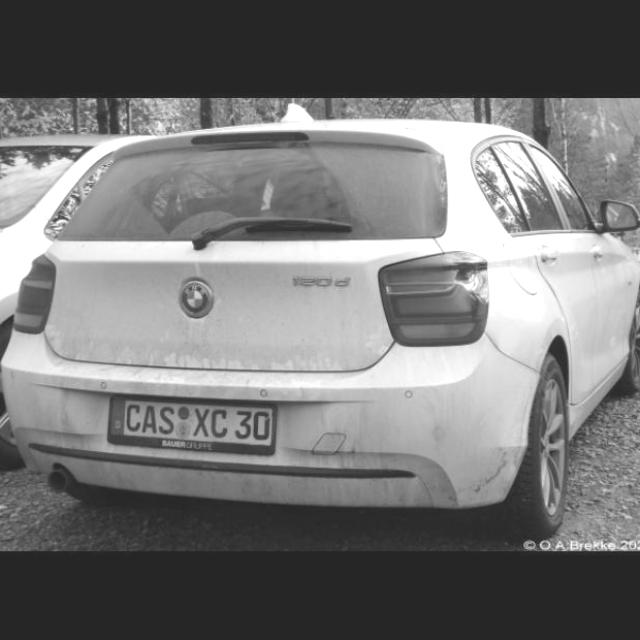licenseplate: (106, 394, 274, 444)
